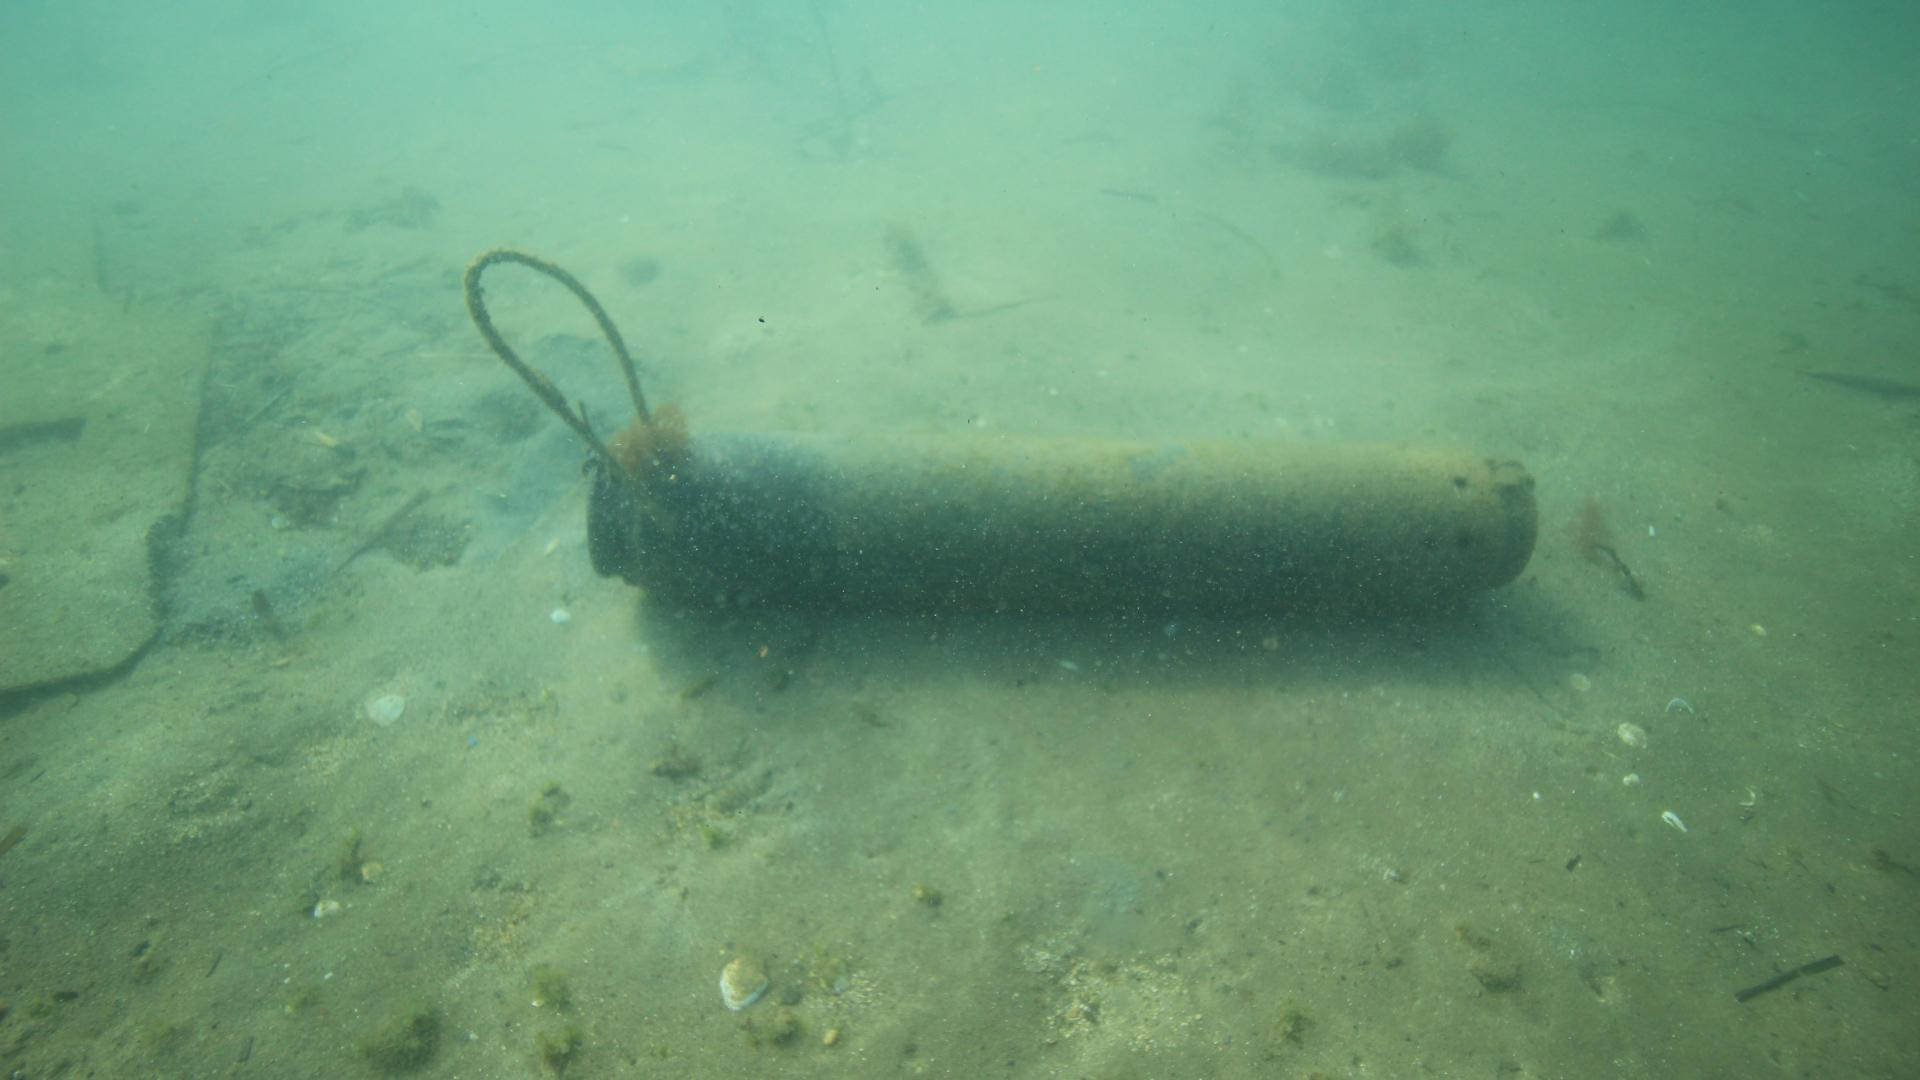eel fish trap: (583, 426, 1545, 613)
rope: (460, 245, 659, 448)
